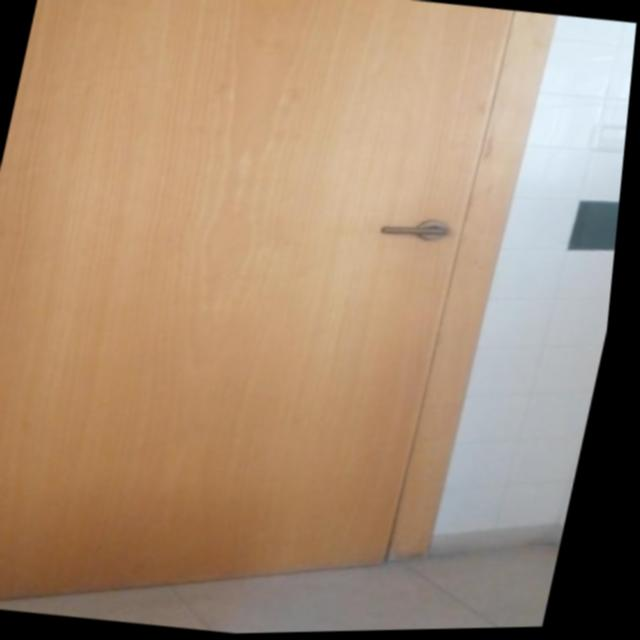door_handle: (377, 224, 461, 251)
